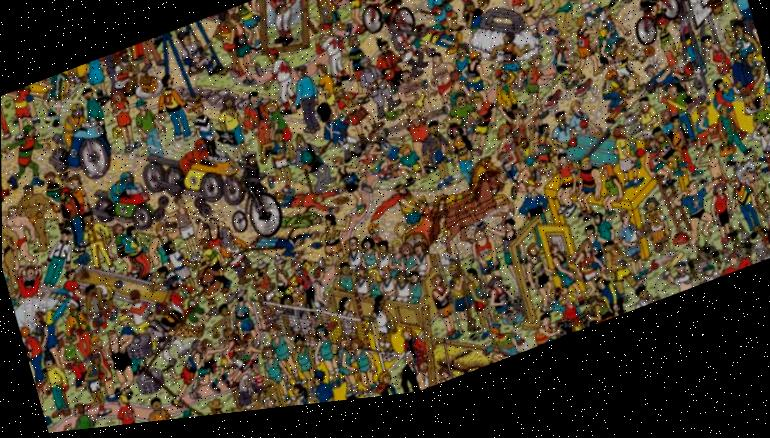waldo: (244, 362, 261, 382)
